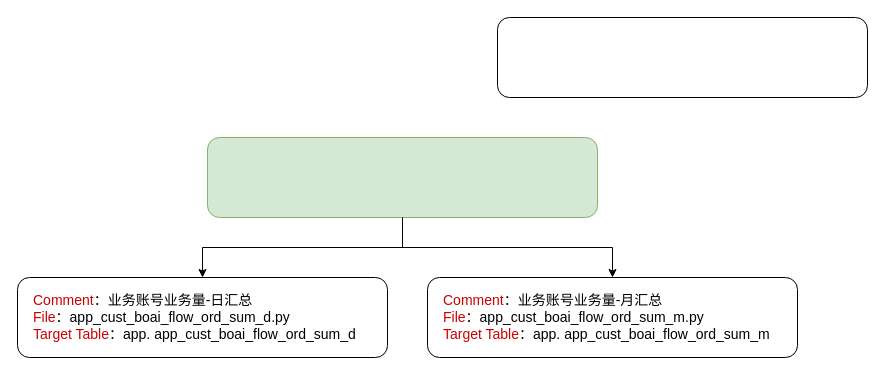
Some shapes in this 885 by 375 pixel diagram are drawn without their labels. The shapes that lost their labels are listed below. From the top down, each one's centre as x and y in pixels, then its label:
At point (682, 57): "Comment ： File ： Target Table ：".
At point (402, 177): "Comment： 物流经分-整体业务量-商家维度-日表 Table Name： app. app_ea_del_flow_stat_sum_vender_d".
